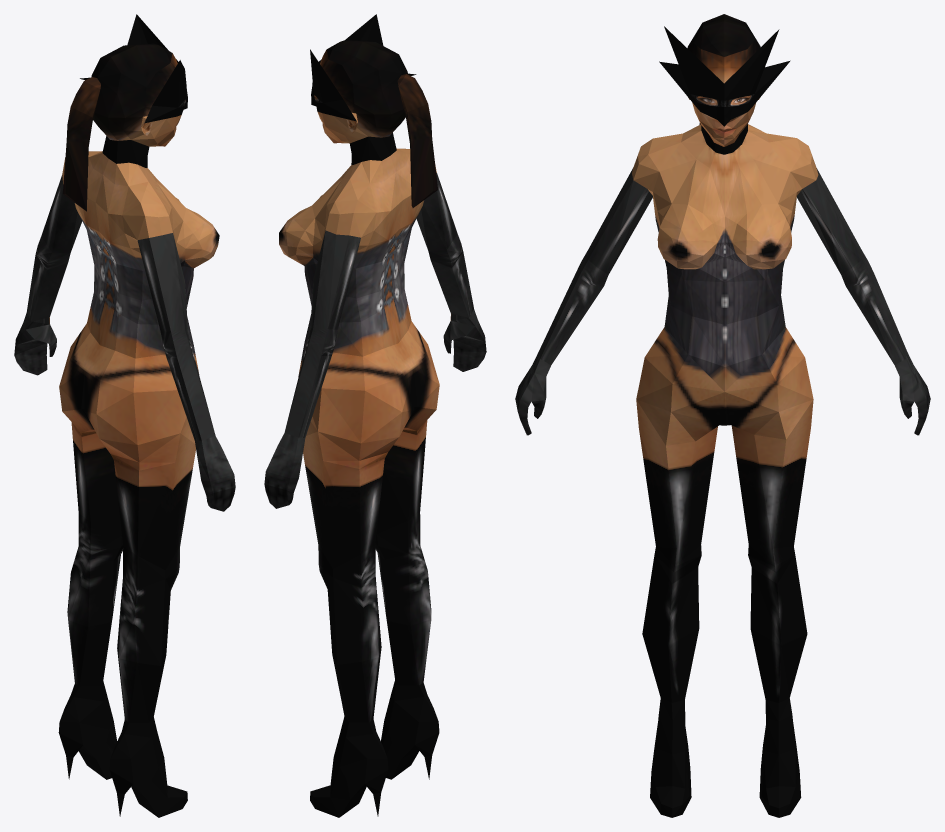
The model's file is wfysex.obj.
3 renders of one model, left to right at view 1: azimuth 30°, elevation 25°; view 2: azimuth 150°, elevation 25°; view 3: azimuth 270°, elevation 25°, orthographic. The views are drawn at different scales.
Parts seen in each view (by area): view 1: _Pelvis; view 2: _Pelvis; view 3: _Pelvis.
Boxes of the visible parts, x1,y1,x2,y2 form: _Pelvis: (14, 14, 235, 817); _Pelvis: (264, 14, 486, 817); _Pelvis: (515, 14, 930, 817).
Size of the model in its own units: 0.3353 by 1.81 by 0.8627.
Materials: 1 (1 with a texture image).
